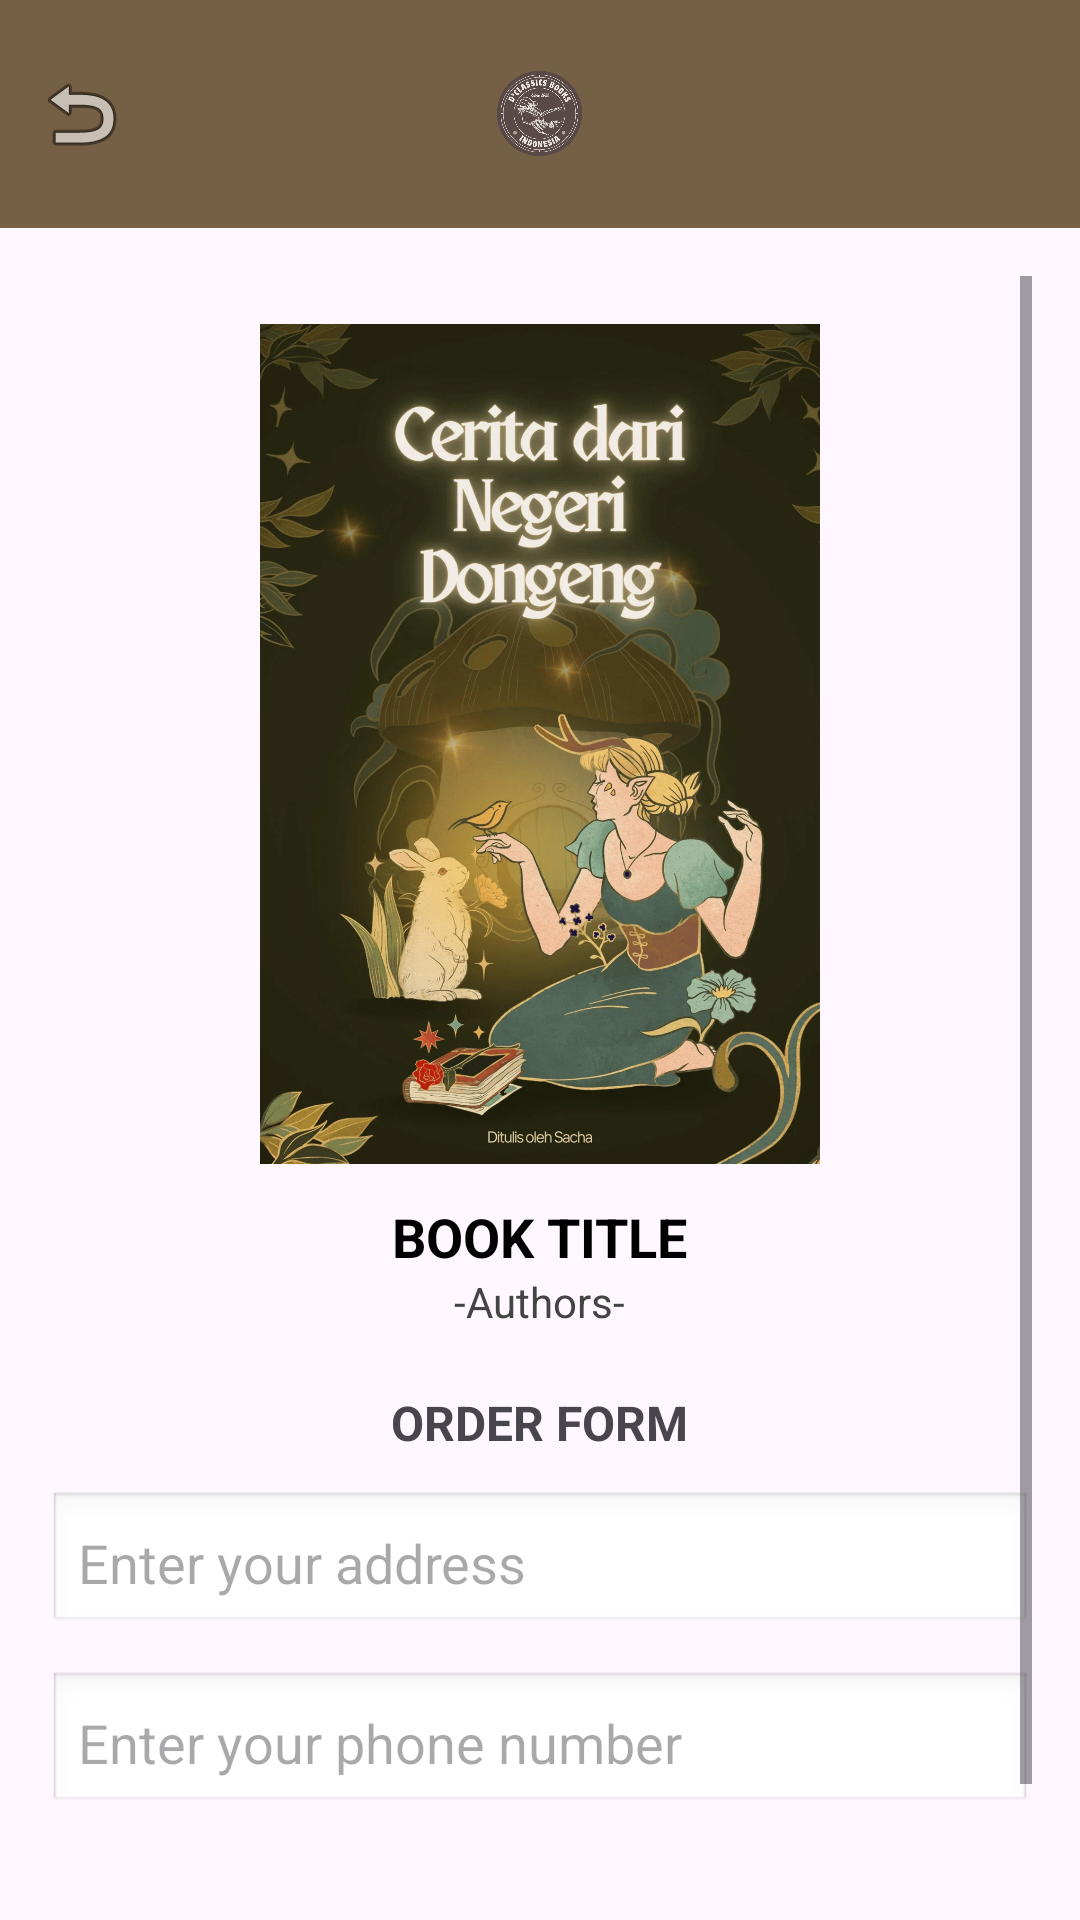

Screen size 1080px x 1920px. Icon name, then its box in pixels as (x1, y1, x2, y2):
Back: (48, 84, 117, 146)
